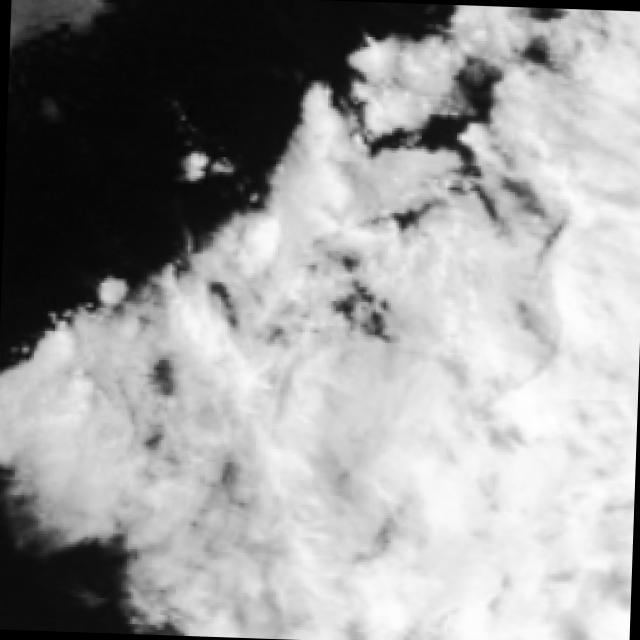CB: (252, 337, 466, 546), (424, 414, 634, 626), (230, 487, 443, 640), (474, 225, 640, 420), (509, 28, 640, 217), (20, 371, 135, 490)
